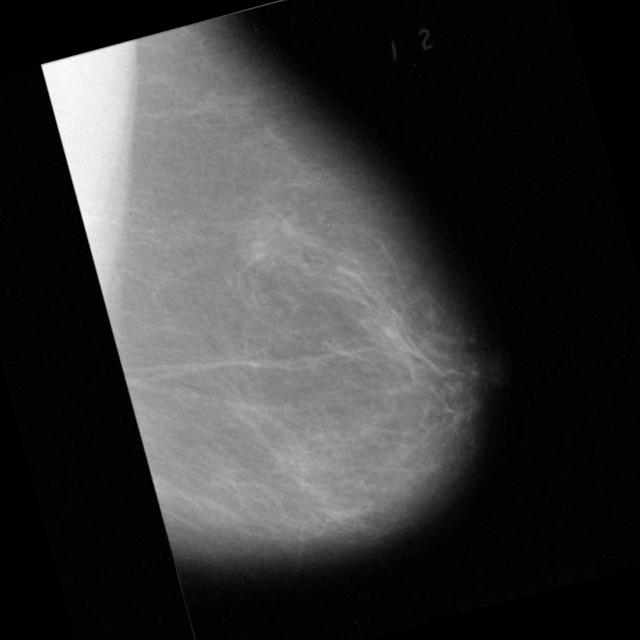ARCH: (232, 216, 286, 269)
